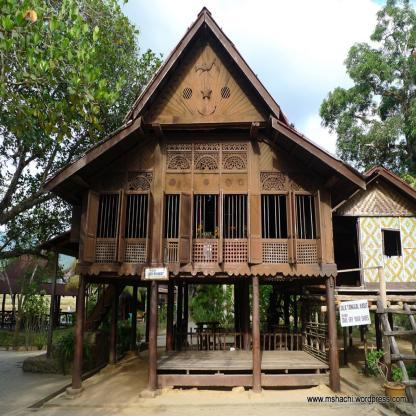Blind: (83, 190, 100, 264), (247, 190, 263, 264), (178, 190, 193, 264), (114, 190, 127, 263), (286, 189, 298, 264), (314, 190, 324, 264), (145, 190, 152, 264), (217, 189, 223, 264), (160, 190, 166, 264)
Building Outline: (39, 6, 367, 393)
Deco: (143, 34, 271, 118)
Facade: (82, 169, 332, 277)
Floor Slab: (78, 265, 336, 277)
Molding: (167, 143, 247, 171), (100, 172, 153, 192), (260, 173, 314, 192)
Pillar: (325, 276, 341, 393), (72, 276, 87, 389), (252, 276, 262, 393), (148, 281, 158, 392)
Raised Floor: (82, 169, 332, 265)
Roof: (39, 6, 367, 196)
Window: (261, 194, 288, 239), (193, 194, 219, 239), (96, 193, 121, 239), (124, 194, 150, 238), (165, 194, 191, 238), (222, 194, 247, 239), (293, 194, 317, 240)
